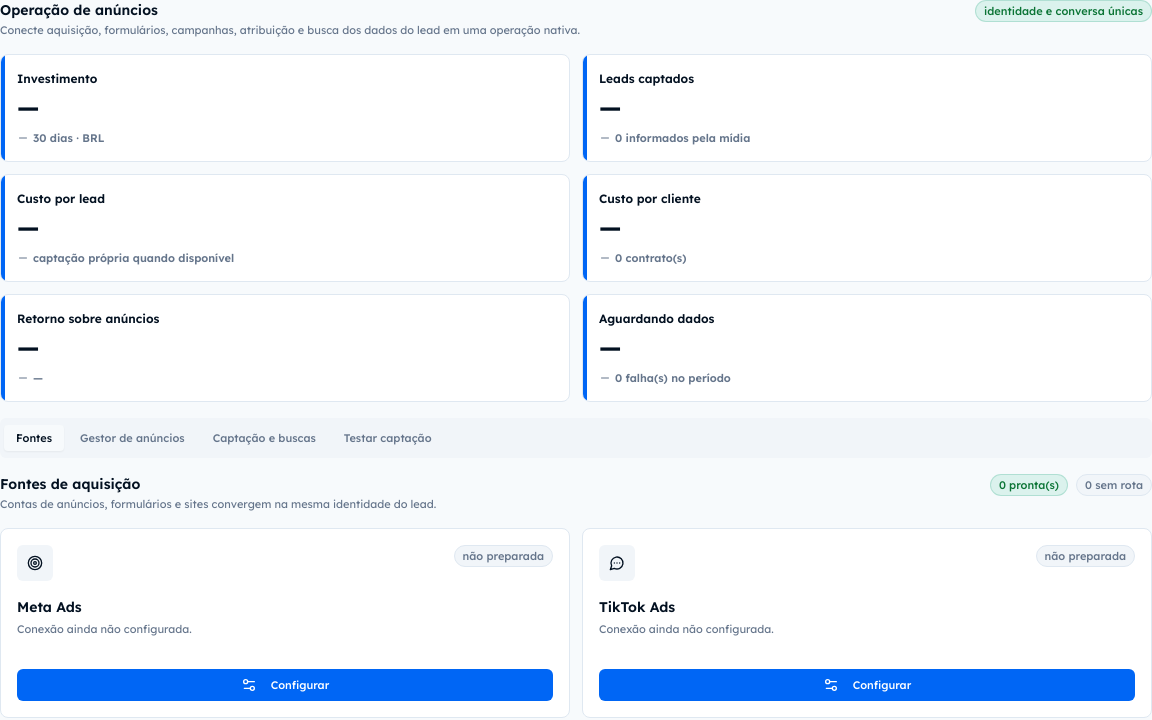
Test: AcquisitionIntegrationsPanel › prepares a missing source through the native connection contract
Click the 1st button "Configurar". click: click(285, 685)
box: [17,669,553,701]
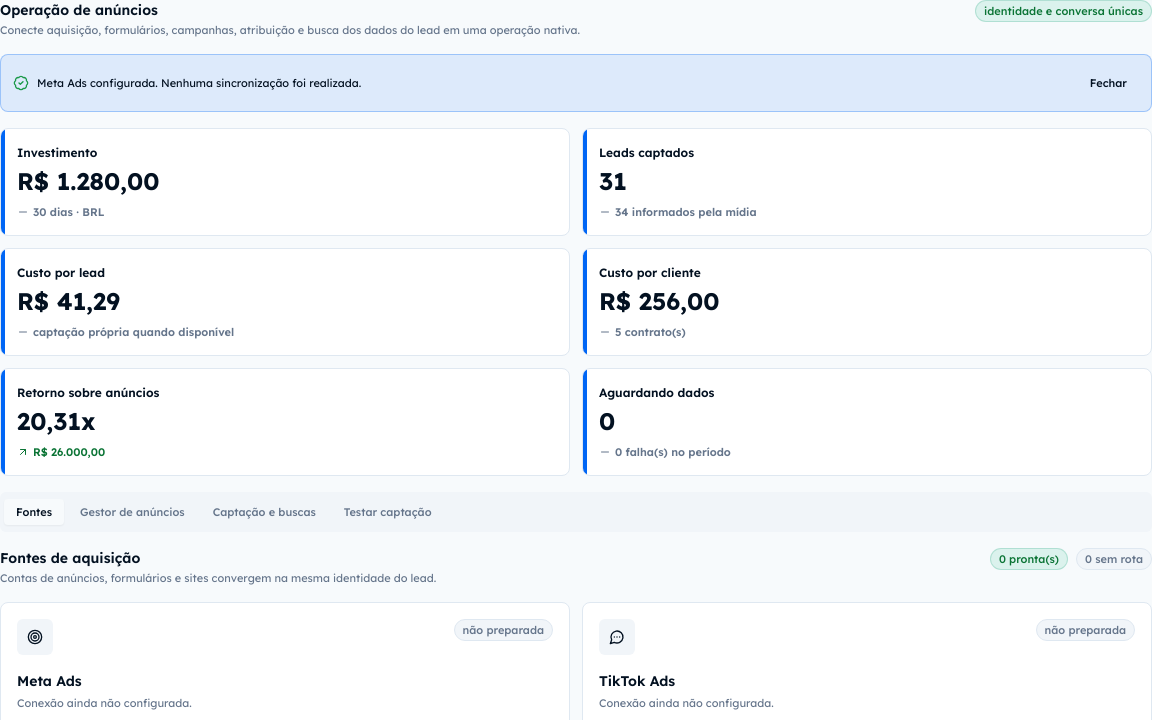
Expected: the text "Meta Ads configurada. Nenhuma sincronização foi realizada." is shown, [37,76,361,90]
